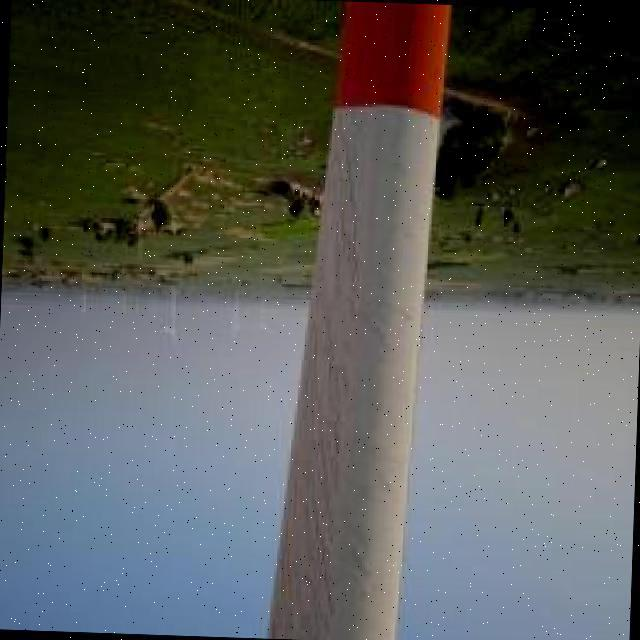Dirt: (271, 105, 420, 640)
